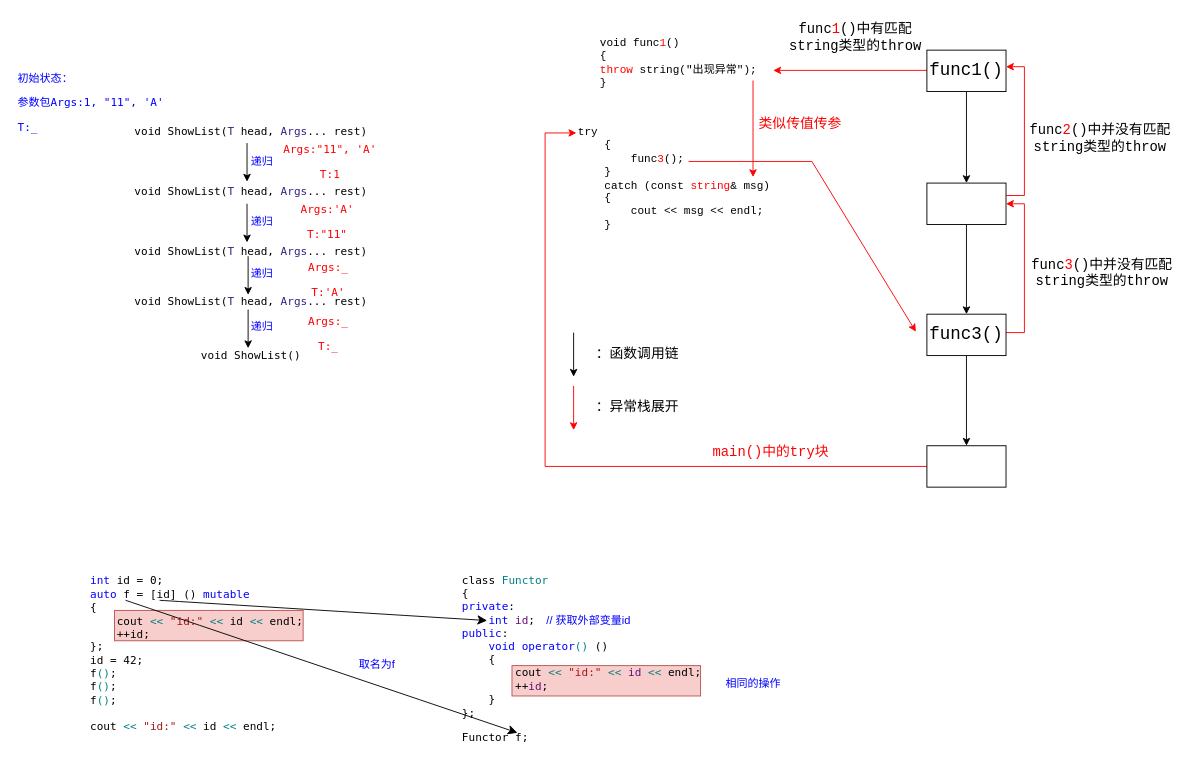
Image size: 1195x778. Some labels were removed from this diagram. Here are the shapes that lost their labels. From the top down, the centre of each, then its label:
At point (966, 203): "func2()".
At point (966, 466): "main()".
